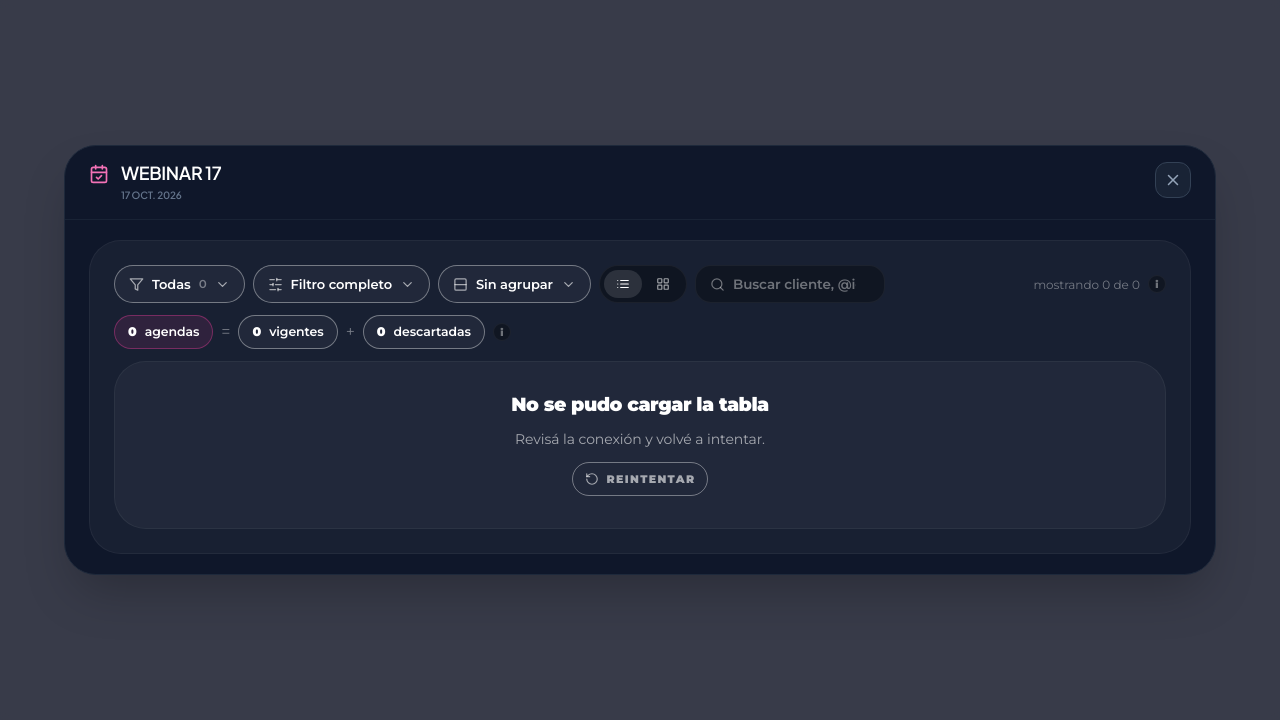
it: ModalAgendasTaller › si falla la carga ofrece reintentar
Click the button "Reintentar".
click(640, 479)  # box [572, 462, 708, 496]
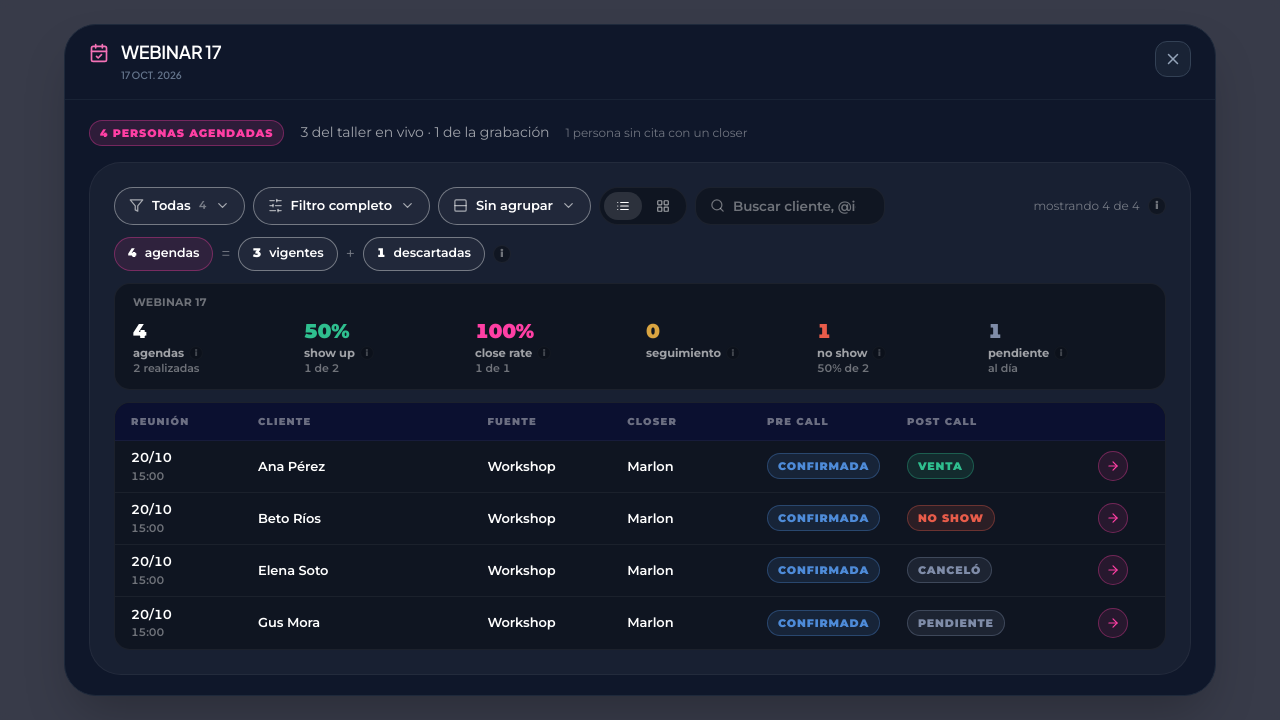
Result: the text "Ana Pérez" is shown at [258, 458, 325, 474]
